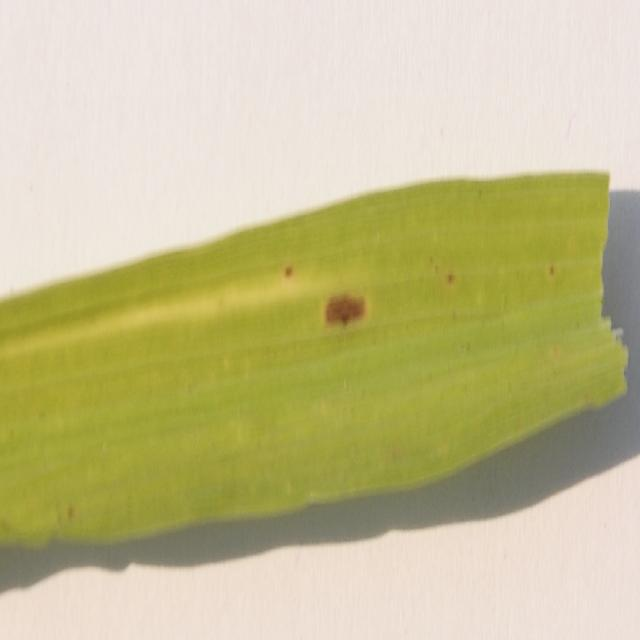brown spot: (316, 279, 374, 342), (277, 238, 299, 303), (442, 246, 460, 299)
